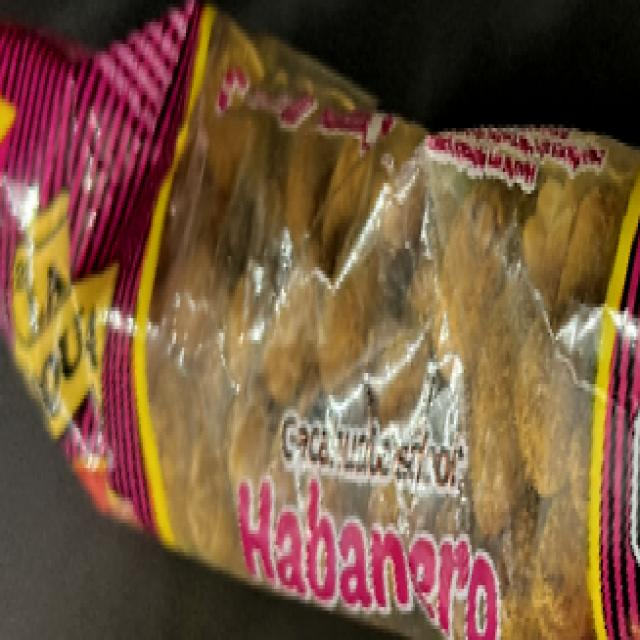bitzHabanero: (22, 56, 614, 584)
